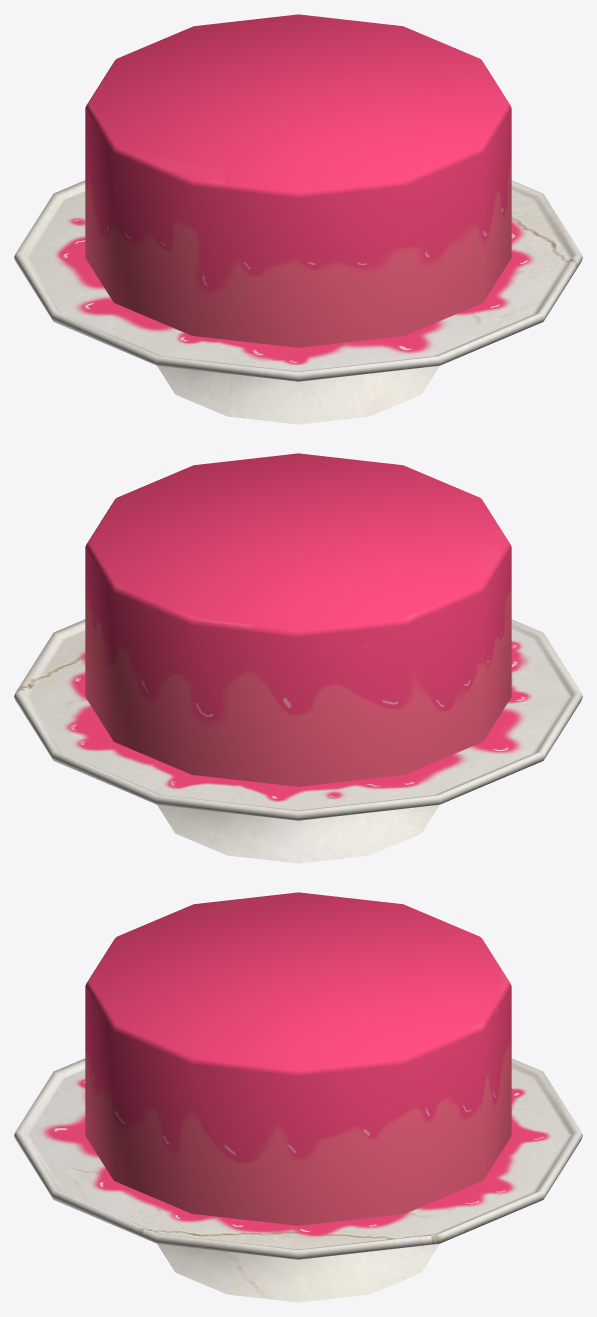
Rendered from cake.glb.
3 views of the same model, one above another, from view 1: azimuth 30°, elevation 25°; view 2: azimuth 150°, elevation 25°; view 3: azimuth 270°, elevation 25° (orthographic).
Visible parts, largest first — view 1: Bolo-material, Ceramica-material; view 2: Bolo-material, Ceramica-material; view 3: Bolo-material, Ceramica-material.
Boxes of the visible parts, box(x1,y1,x2,y2) form: Bolo-material: box(85, 14, 511, 347); Ceramica-material: box(14, 180, 582, 424); Bolo-material: box(85, 453, 511, 786); Ceramica-material: box(14, 619, 582, 863); Bolo-material: box(85, 892, 511, 1225); Ceramica-material: box(14, 1058, 582, 1302).
Size of the model in its own units: 0.5337 by 0.2707 by 0.5337.
Materials: 2 (2 with a texture image).
